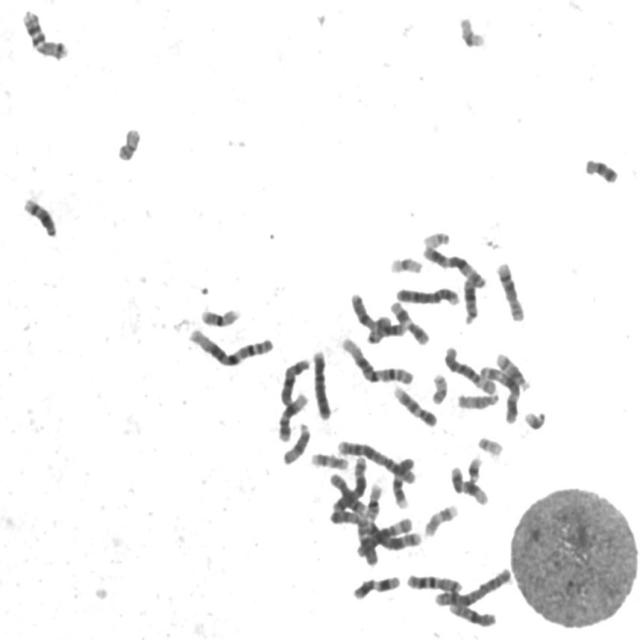A1: (337, 332, 416, 386), (184, 323, 275, 368)
A2: (332, 435, 418, 485), (431, 564, 513, 609)
A3: (418, 241, 488, 289), (477, 360, 522, 424)
B4: (308, 345, 334, 421), (392, 282, 462, 307)
B5: (354, 509, 430, 553), (328, 452, 369, 516)
C10: (353, 505, 382, 567), (446, 599, 498, 628)
C11: (386, 296, 431, 346), (349, 572, 402, 602)
C12: (274, 388, 310, 443), (447, 462, 490, 507)
C6: (441, 341, 498, 395), (354, 513, 414, 560)
C7: (18, 4, 70, 61), (403, 570, 464, 594)
C8: (492, 258, 527, 323), (326, 470, 368, 517)
C9: (390, 382, 439, 428), (389, 452, 417, 510)
D13: (460, 272, 480, 326), (324, 506, 373, 524)
D14: (492, 347, 533, 392), (19, 192, 59, 238)
D15: (278, 419, 312, 466), (454, 388, 502, 410)
E16: (197, 302, 242, 328), (363, 480, 384, 520)
E17: (421, 499, 460, 538), (306, 449, 351, 471)
E18: (580, 153, 620, 185), (362, 311, 392, 345)
F19: (454, 12, 488, 49), (386, 252, 424, 276)
F20: (113, 122, 143, 162), (427, 368, 450, 406)
G21: (520, 406, 548, 430), (464, 452, 484, 484)
G22: (474, 431, 505, 457), (419, 226, 451, 248)
X: (346, 288, 407, 338), (276, 354, 312, 406)
